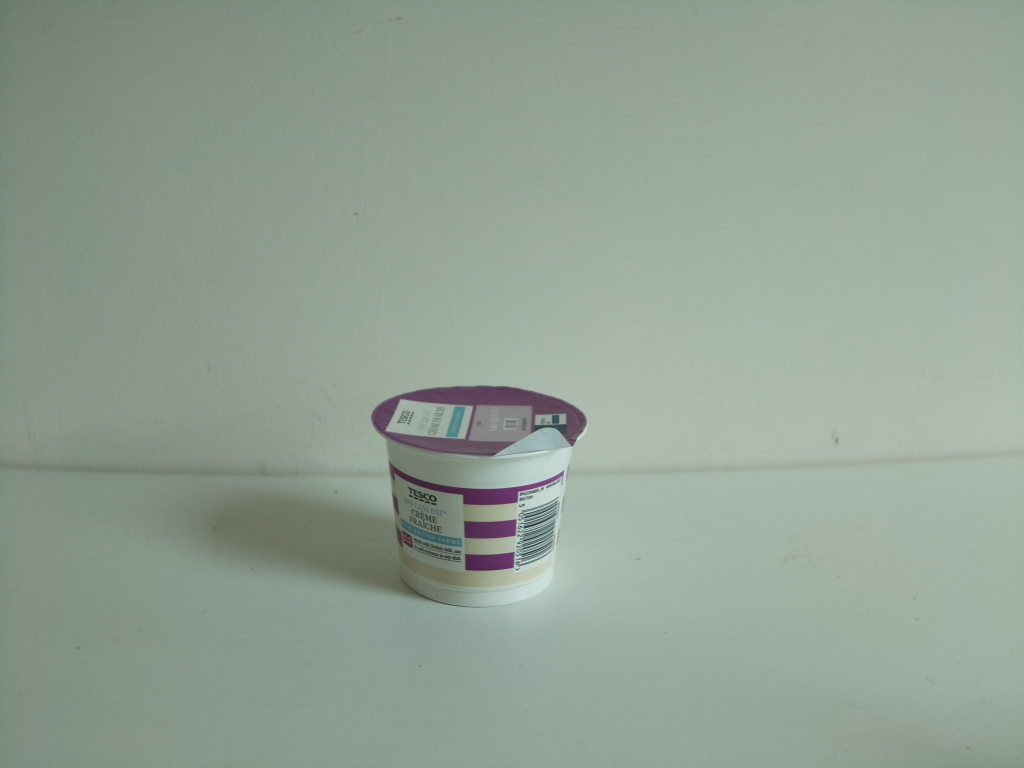cream: (368, 382, 591, 614)
